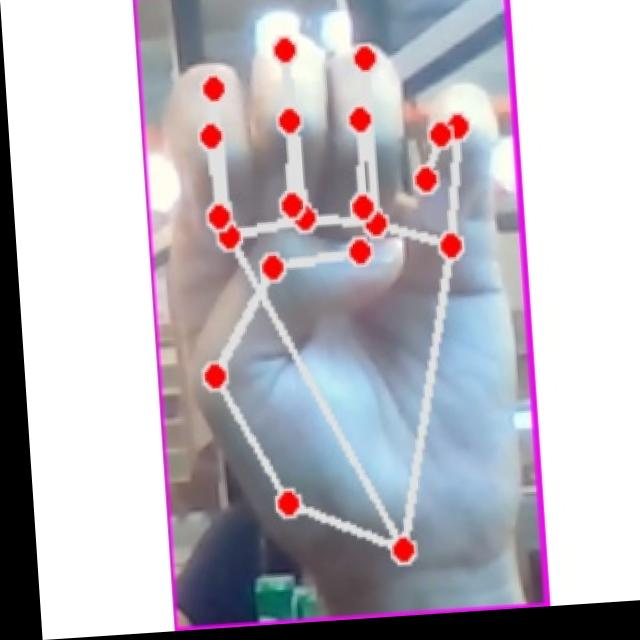E: (156, 22, 523, 575)
